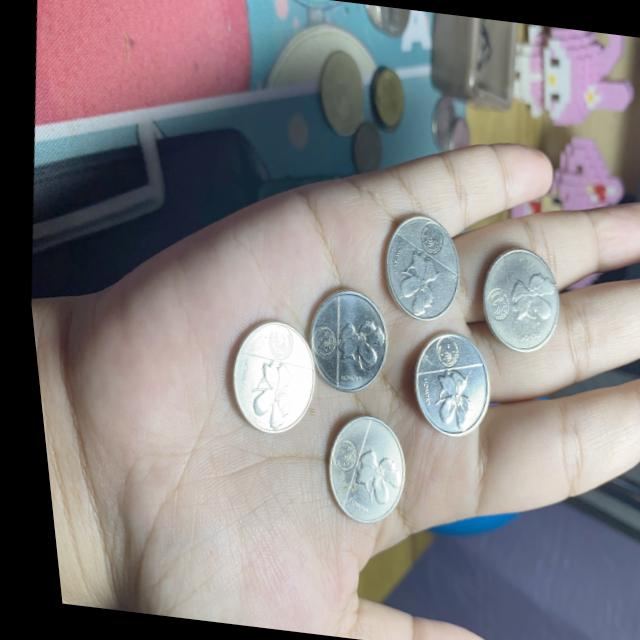25Cent_New_Back: (408, 368, 471, 432), (381, 250, 438, 317), (344, 442, 393, 512), (326, 305, 384, 363), (499, 265, 556, 318)
